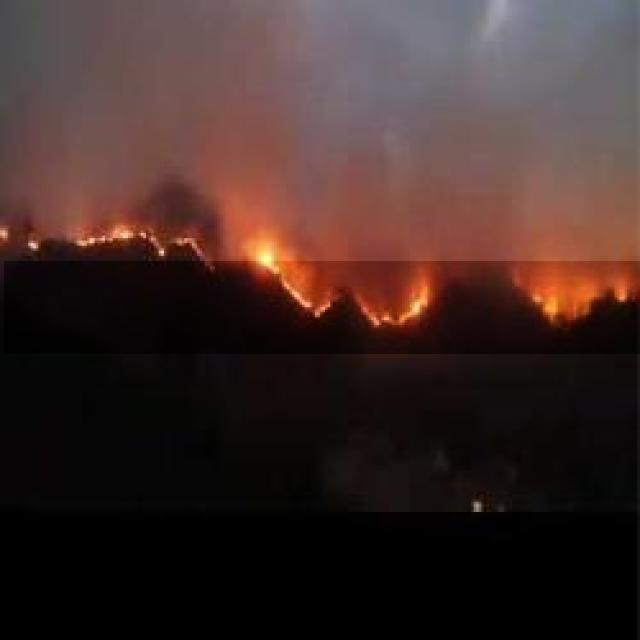Fire: (4, 199, 640, 354)
Smoke: (0, 0, 640, 261)
